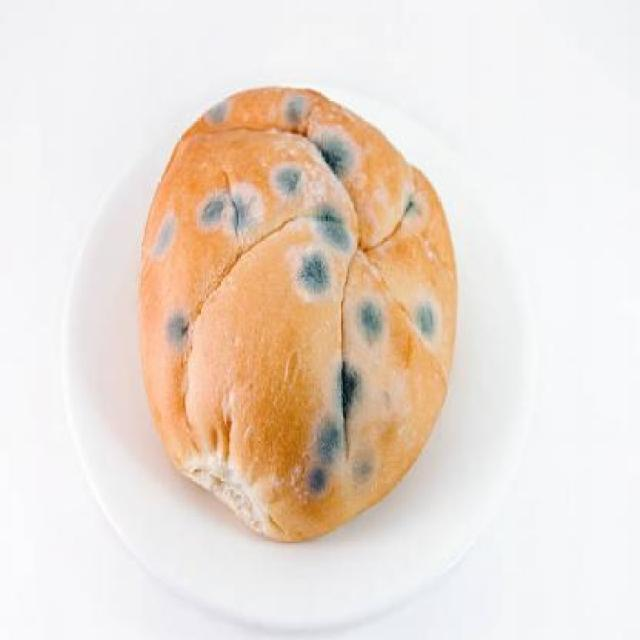mold_bread: (200, 183, 267, 246), (287, 243, 338, 302), (310, 199, 363, 252), (306, 420, 343, 495), (328, 360, 365, 419), (348, 297, 390, 345), (317, 129, 358, 177), (157, 306, 198, 354), (149, 204, 177, 264), (268, 163, 312, 201), (411, 297, 444, 347), (201, 93, 234, 134), (278, 92, 310, 131), (399, 186, 427, 224), (349, 448, 377, 482)
